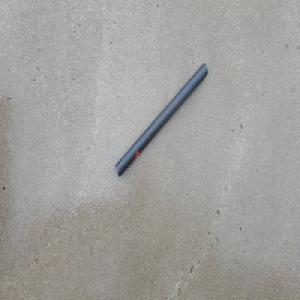LuggagePart: (115, 62, 208, 178)
